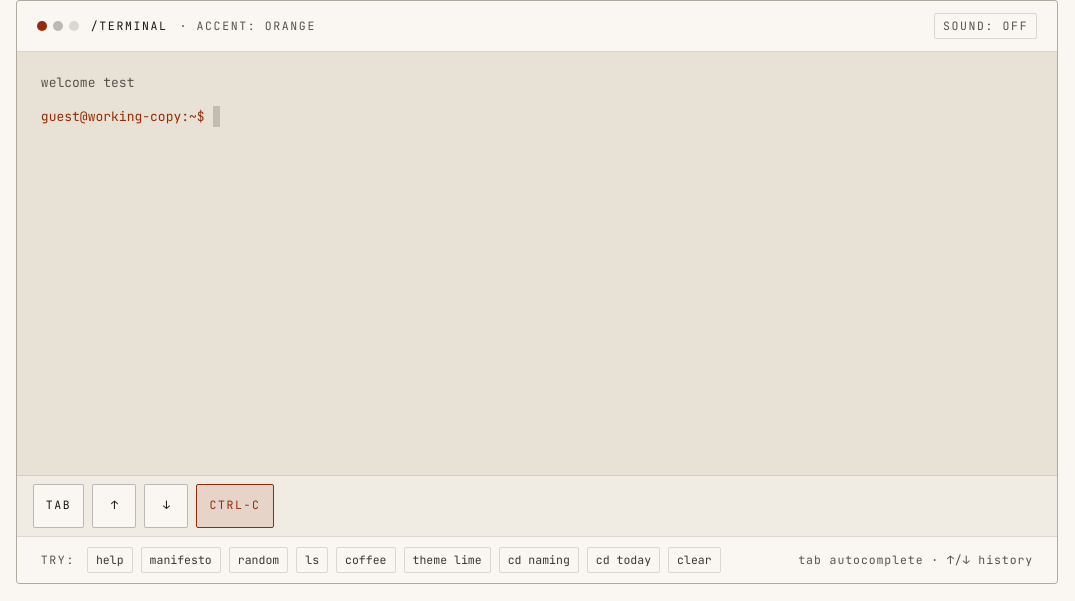
Test case: <Terminal /> interactive behavior › runs known commands, replies with a funny error on unknown commands, and clears output
Type "whoami" into the field named "terminal command input" at (623, 116), box [213,106,1033,127]
Then press Enter
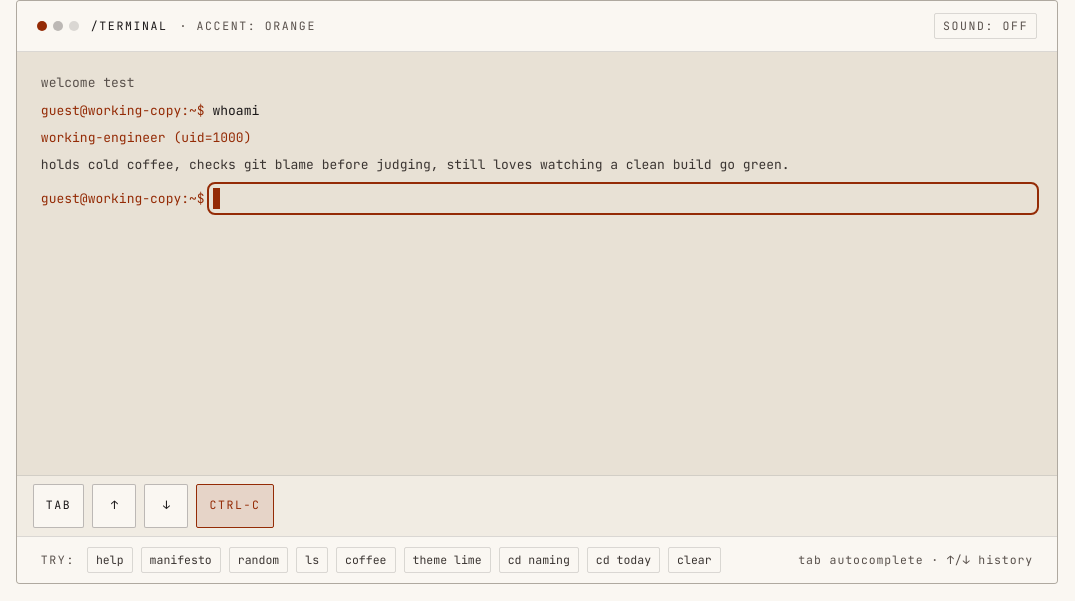
expect the text "working-engineer (uid=1000)" is shown: met, box [41,129,251,146]
Type "notarealcmd" into the field named "terminal command input" at (623, 199), box [213,188,1033,209]
Then press Enter
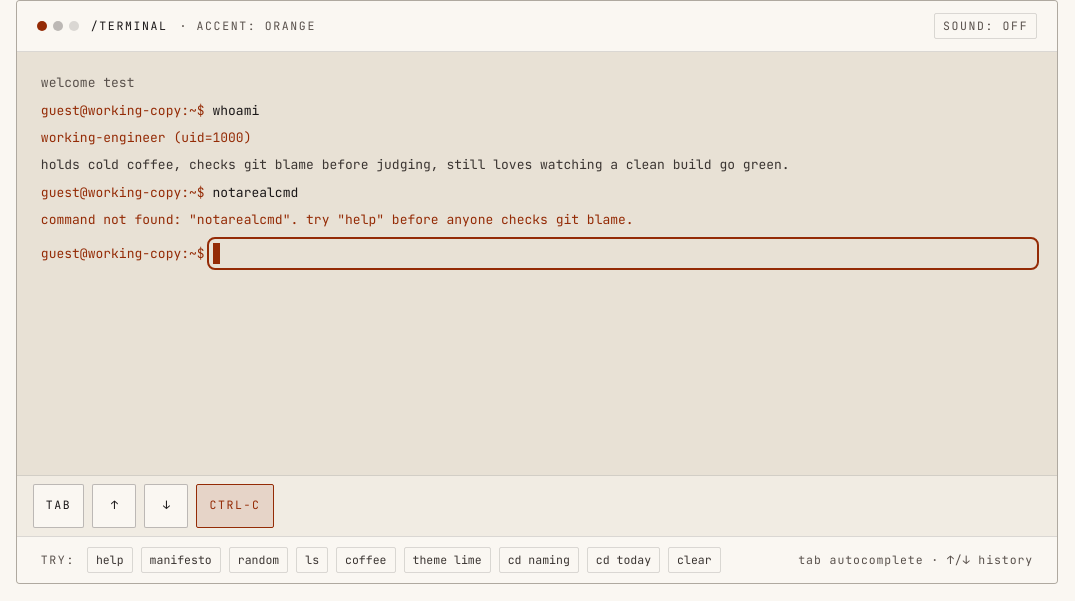
expect the text "notarealcmd" is shown: met, box [41,211,634,228]
Type "clear" into the field named "terminal command input" at (623, 254), box [213,243,1033,264]
Then press Enter
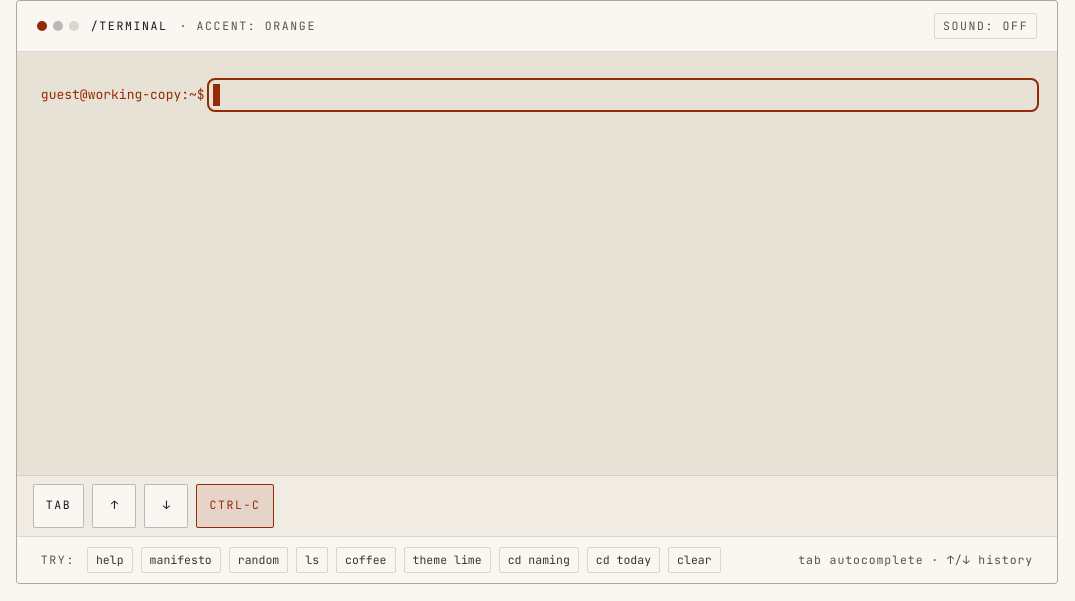
expect the text "working-engineer (uid=1000)" is gone: met
